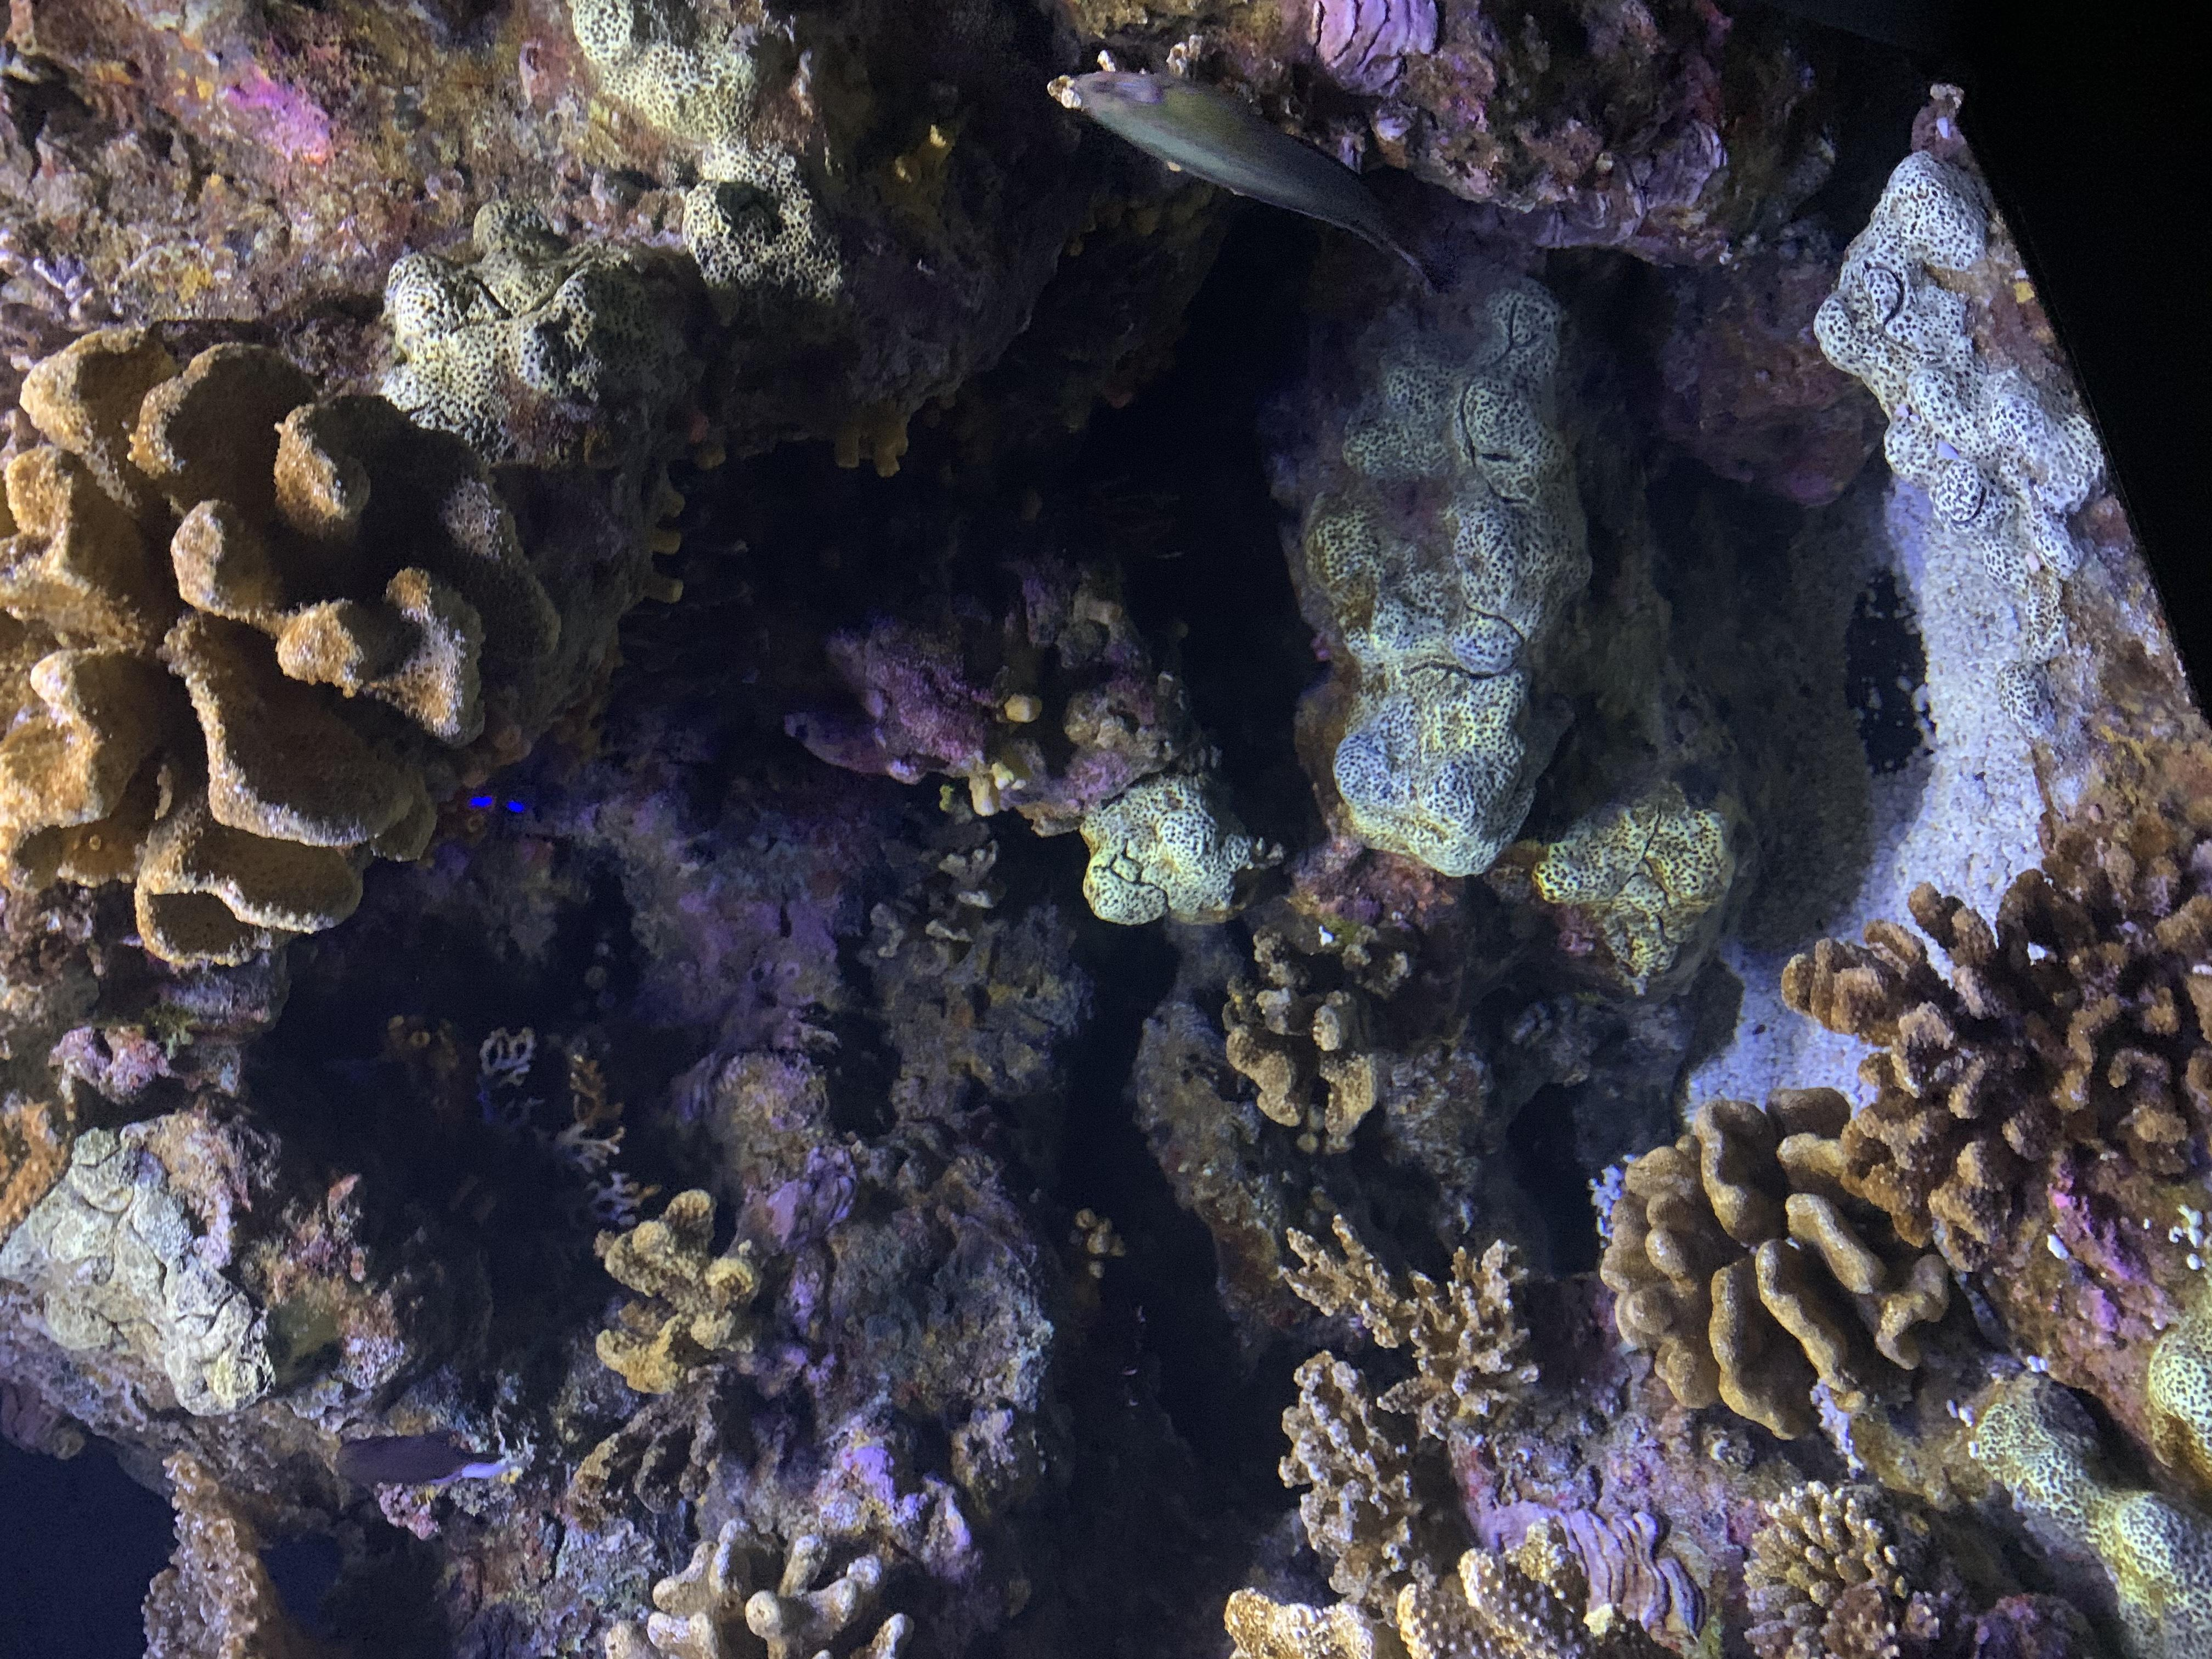fish: (1057, 61, 1453, 305), (334, 1432, 498, 1492)
